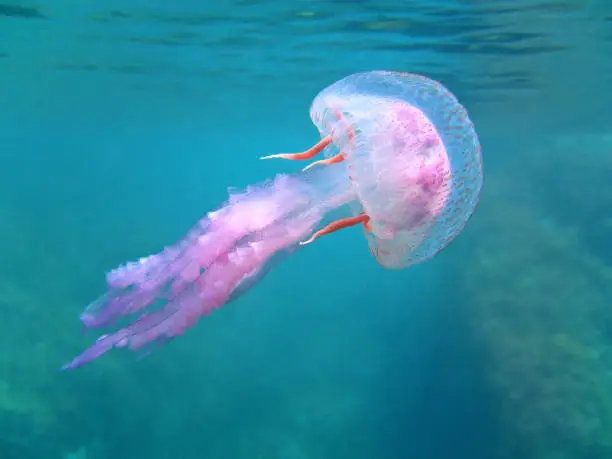jellyfish: (67, 70, 485, 365)
